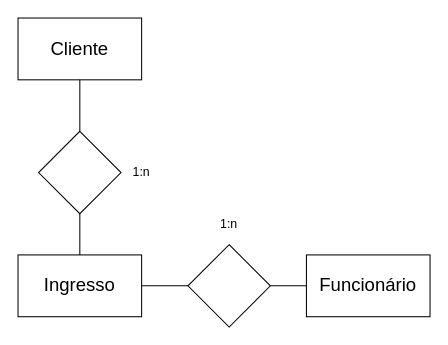
Some shapes in this 448 by 345 pixel diagram are drawn without their labels. Here are the shapes that lost their labels. From the top down, the centre of each, then its label:
the point at 79,172: Compra
the point at 228,285: Autoriza
